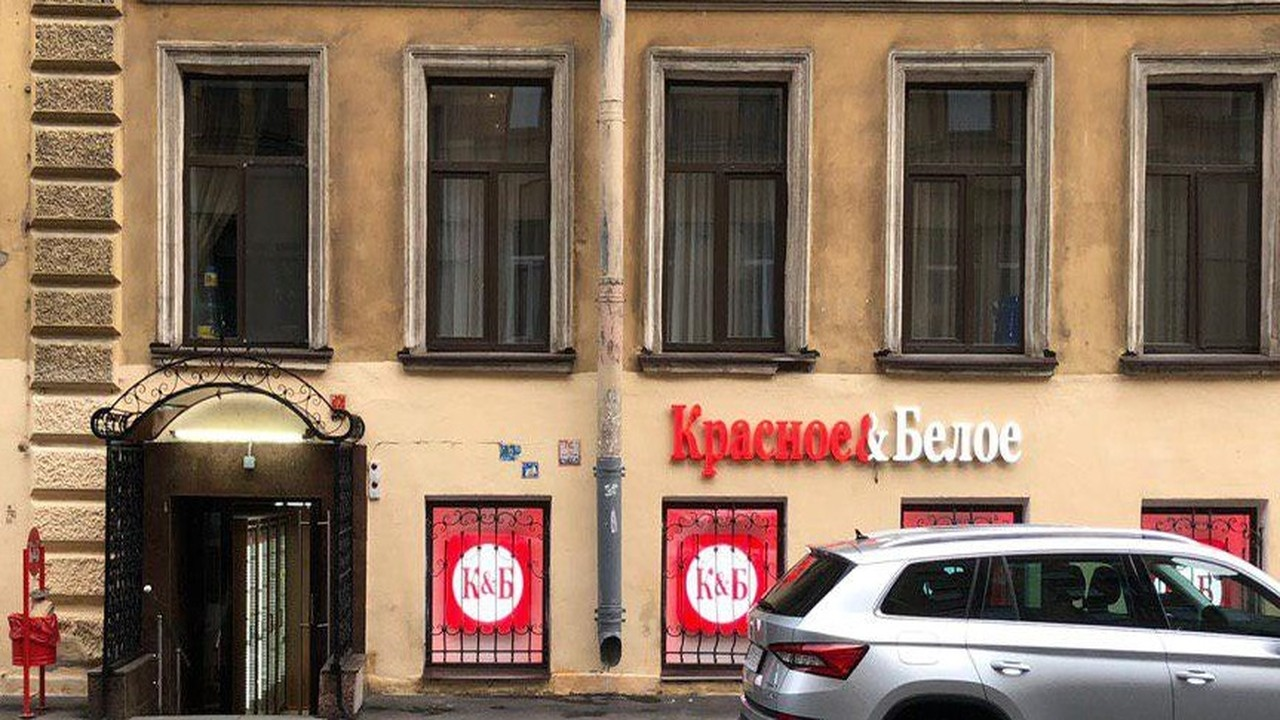signboard: (669, 403, 1022, 476)
window: (422, 74, 549, 355), (660, 78, 785, 354), (182, 74, 308, 346), (903, 81, 1028, 354), (1143, 90, 1263, 351), (427, 500, 548, 667), (665, 503, 782, 675)
